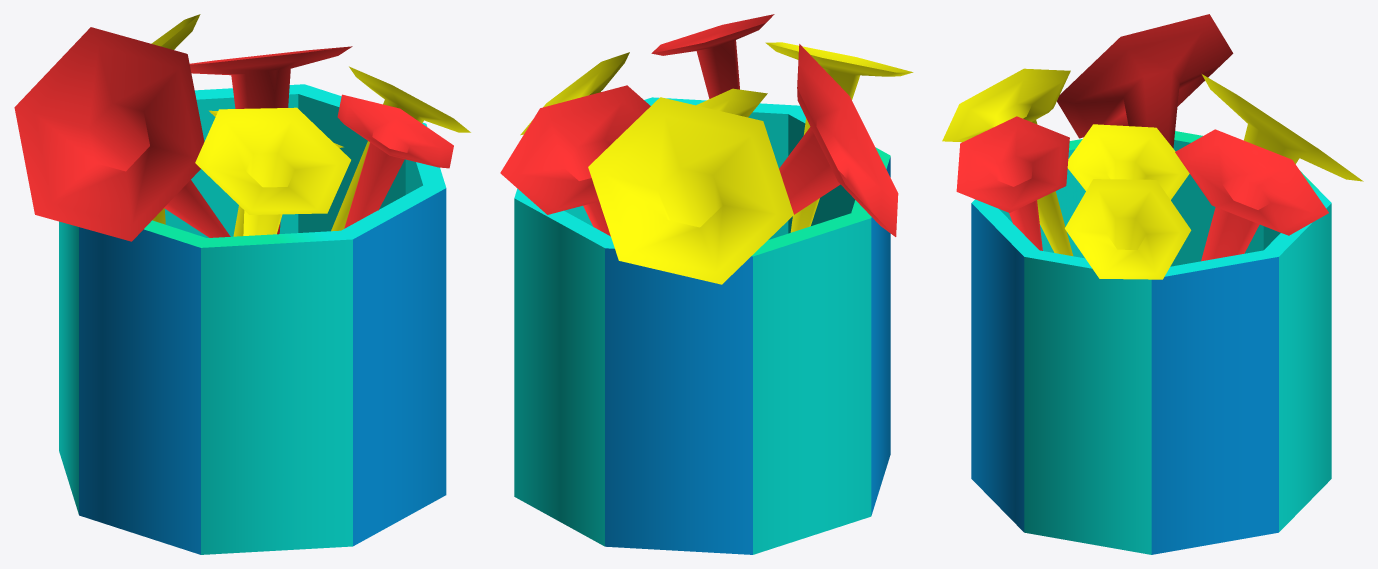
Rendered from Flower.fbx.
The picture shows the model from 3 angles, left to right: view 1: azimuth 30°, elevation 25°; view 2: azimuth 150°, elevation 25°; view 3: azimuth 270°, elevation 25°; orthographic projection. The views are drawn at different scales.
Parts seen in each view (by area): view 1: Flower; view 2: Flower; view 3: Flower.
Part boxes in pixels (x1,y1,x2,y2): Flower: (14,14,470,554); Flower: (500,14,913,554); Flower: (942,14,1363,554).
Bounding box in the file's own units: 24.32 × 26.5 × 24.83.
